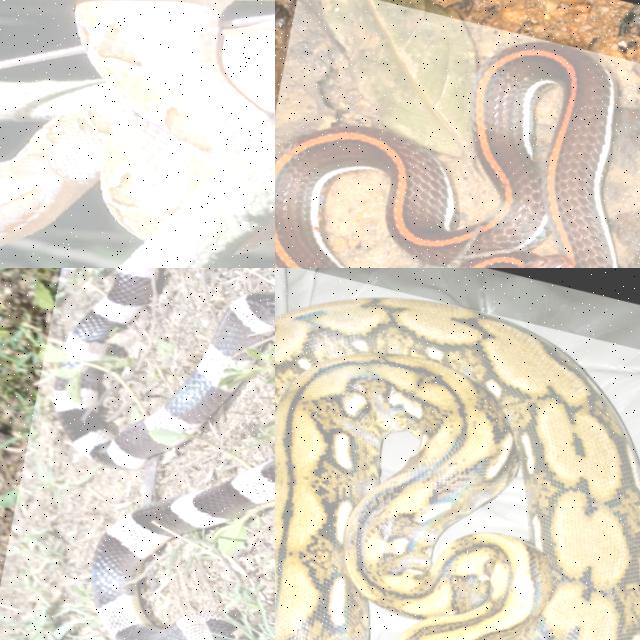Bungarus candidus: (55, 292, 274, 470)
Calliophis intestinalis: (275, 43, 616, 267)
Calloselasma rhodostoma: (0, 0, 272, 245)
Malayopython reticulatus: (275, 298, 639, 639)
snake: (275, 298, 639, 639), (275, 43, 616, 267), (0, 0, 272, 245), (55, 292, 274, 470)
